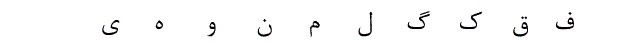character: (294, 5, 335, 41), (546, 4, 586, 40), (94, 3, 128, 42), (245, 6, 281, 42), (501, 5, 536, 41), (450, 4, 486, 37), (349, 4, 381, 41), (402, 2, 436, 35), (143, 9, 171, 42), (198, 11, 223, 42)
